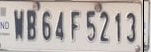character: (85, 10, 96, 42), (98, 11, 109, 42), (13, 9, 23, 40), (26, 9, 36, 40), (41, 10, 51, 41), (125, 12, 135, 42), (54, 11, 63, 42), (70, 10, 79, 40), (114, 12, 121, 42)
